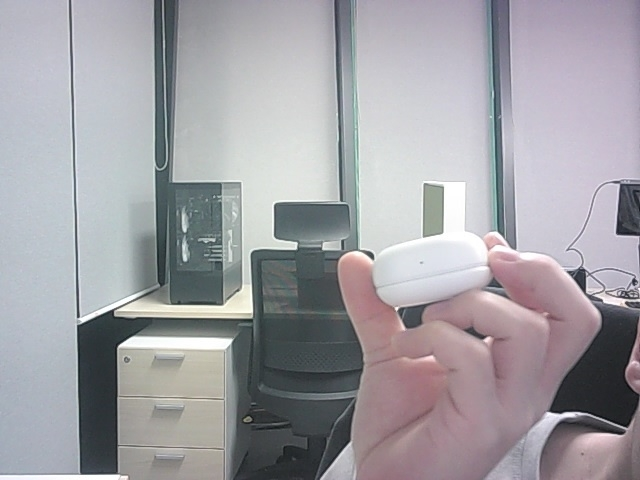case: (373, 232, 491, 307)
